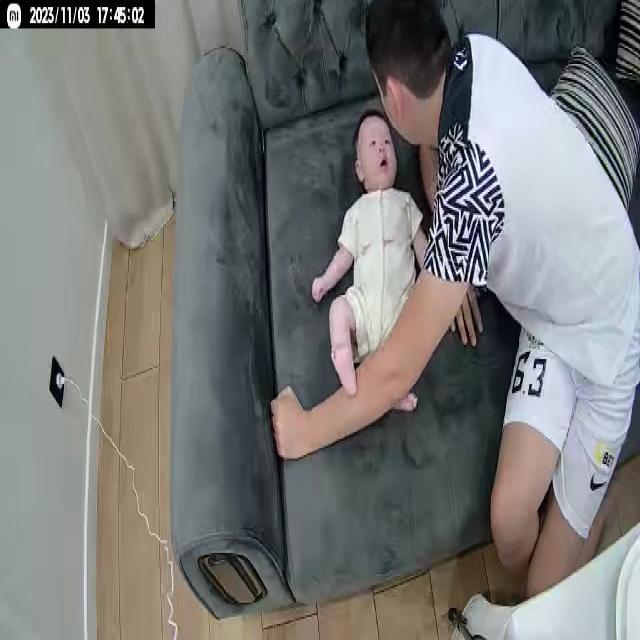baby: (310, 108, 430, 422)
